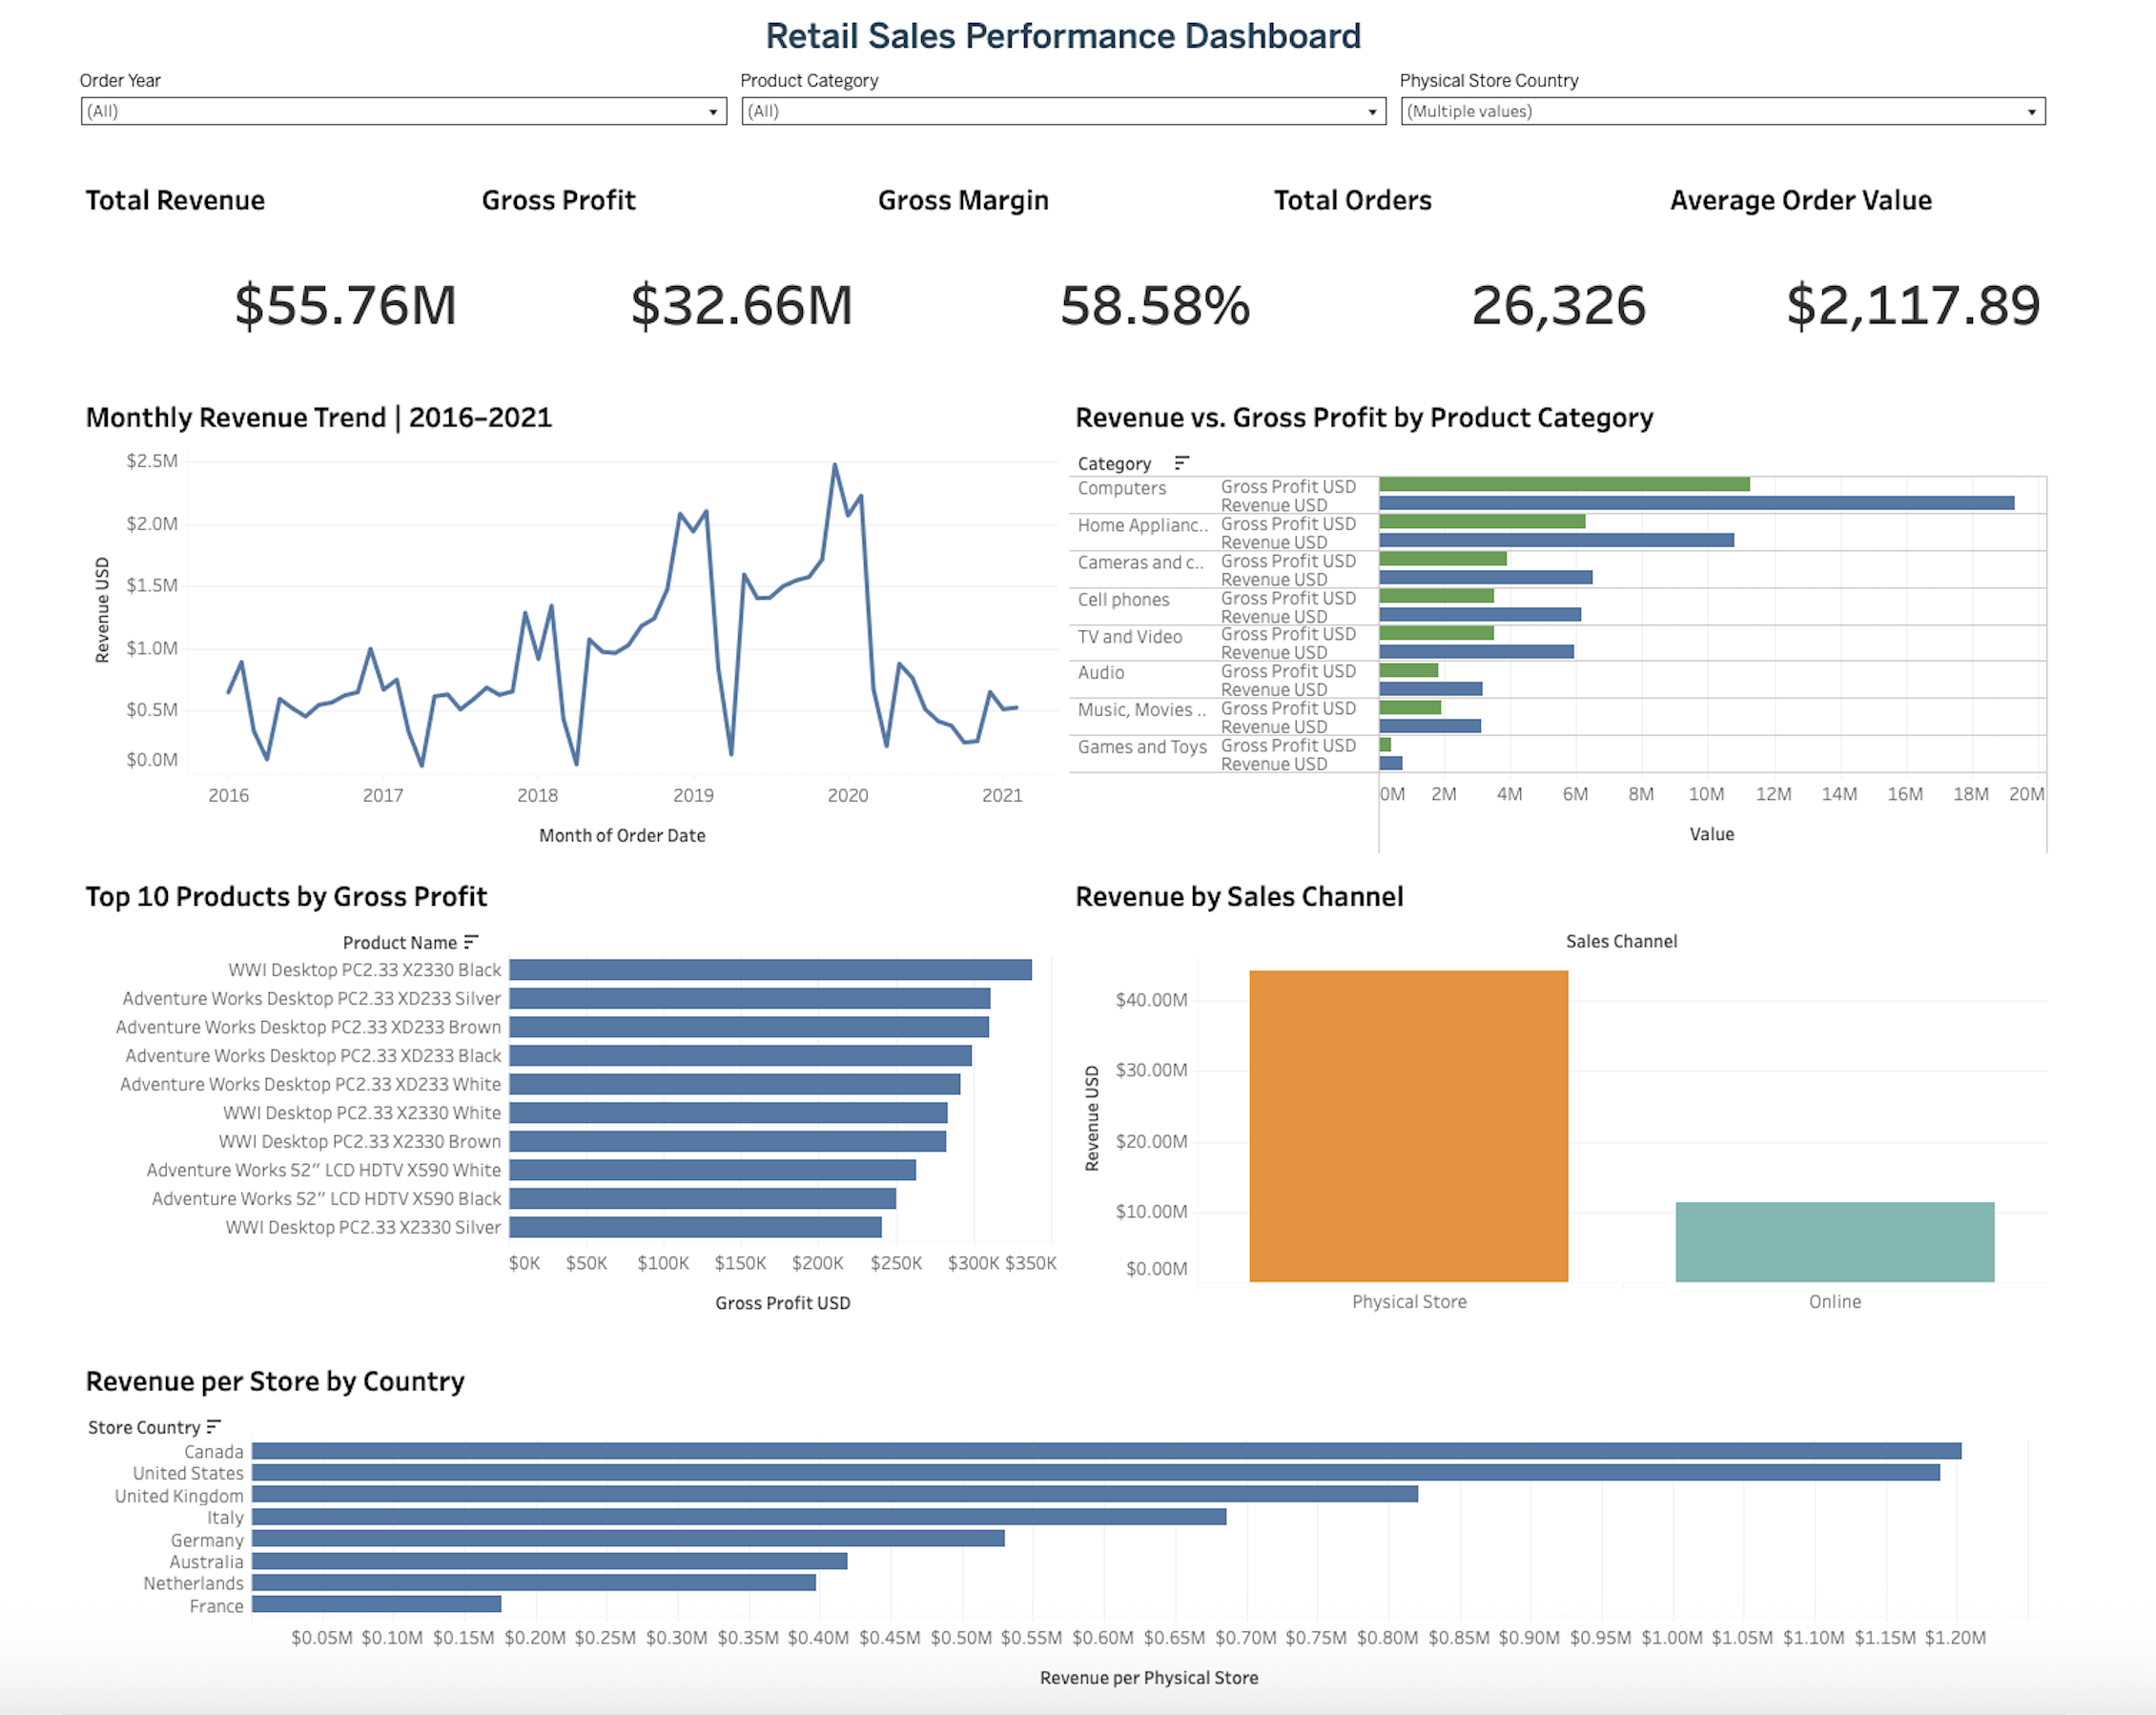

This screenshot's page, from the dashboard's own definition file:
{"tool":"tableau","page":{"name":"Retail Sales Performance Dashboard","canvas":[1400,1200],"ordinal":0},"visuals":[{"type":"title","box":[8,8,1384,39]},{"type":"filter","title":"Monthly Revenue Trend ","param":"[federated.02mv40g115zquw112pwzw1xag6gb].[yr:Order Date:ok]","box":[8,47,462,70]},{"type":"filter","title":"Category Revenue vs Gross Profit","param":"[federated.02mv40g115zquw112pwzw1xag6gb].[none:Category:nk]","box":[470,47,461,70]},{"type":"filter","title":"Revenue per Store by Country","param":"[federated.02mv40g115zquw112pwzw1xag6gb].[none:Store Country:nk]","box":[931,47,461,70]},{"type":"worksheet","title":"KPI - Total Revenue","mark":"Automatic","box":[8,117,277,152]},{"type":"worksheet","title":"KPI - Gross Profit","mark":"Automatic","box":[285,117,277,152]},{"type":"worksheet","title":"KPI - Gross Margin","mark":"Automatic","box":[562,117,277,152]},{"type":"worksheet","title":"KPI - Total Orders","mark":"Automatic","box":[839,117,277,152]},{"type":"worksheet","title":"KPI - Average Order Value","mark":"Automatic","box":[1116,117,276,152]},{"type":"worksheet","title":"Monthly Revenue Trend ","mark":"Line","rows":["Revenue USD"],"cols":["Order Date"],"box":[8,269,692,335]},{"type":"worksheet","title":"Category Revenue vs Gross Profit","mark":"Bar","rows":["Category"],"box":[700,269,692,335]},{"type":"worksheet","title":"Top 10 Products by Gross Profit","mark":"Automatic","rows":["Product Name"],"cols":["Gross Profit USD"],"box":[8,604,692,338.4]},{"type":"worksheet","title":"Revenue by Sales Channel","mark":"Bar","rows":["Revenue USD"],"cols":["Calculation_5335217501130588160"],"box":[700,604,692,338.4]},{"type":"worksheet","title":"Revenue per Store by Country","mark":"Bar","rows":["Store Country"],"cols":["Calculation_1811010055683903488"],"box":[8,942.5,1384,249.5]}]}

Visuals, with their boxes on the page's 1400x1200 design canvas (x1, y1, x2, y2). These are canvas units, not pixel positions in the 2156x1715 screenshot, which may show the page scaled, cropped or inside an application window:
title: 8, 8, 1392, 47
"Monthly Revenue Trend " filter: 8, 47, 470, 117
"Category Revenue vs Gross Profit" filter: 470, 47, 931, 117
"Revenue per Store by Country" filter: 931, 47, 1392, 117
"KPI - Total Revenue" worksheet: 8, 117, 285, 269
"KPI - Gross Profit" worksheet: 285, 117, 562, 269
"KPI - Gross Margin" worksheet: 562, 117, 839, 269
"KPI - Total Orders" worksheet: 839, 117, 1116, 269
"KPI - Average Order Value" worksheet: 1116, 117, 1392, 269
"Monthly Revenue Trend " worksheet (Line marks): 8, 269, 700, 604
"Category Revenue vs Gross Profit" worksheet (Bar marks): 700, 269, 1392, 604
"Top 10 Products by Gross Profit" worksheet: 8, 604, 700, 942
"Revenue by Sales Channel" worksheet (Bar marks): 700, 604, 1392, 942
"Revenue per Store by Country" worksheet (Bar marks): 8, 942, 1392, 1192
